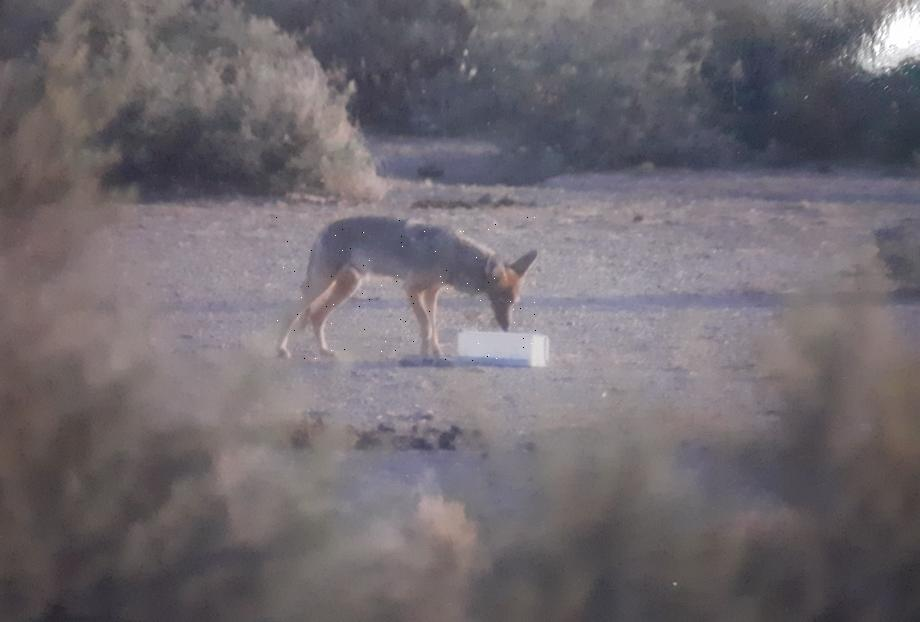Coyote: (275, 214, 538, 364)
